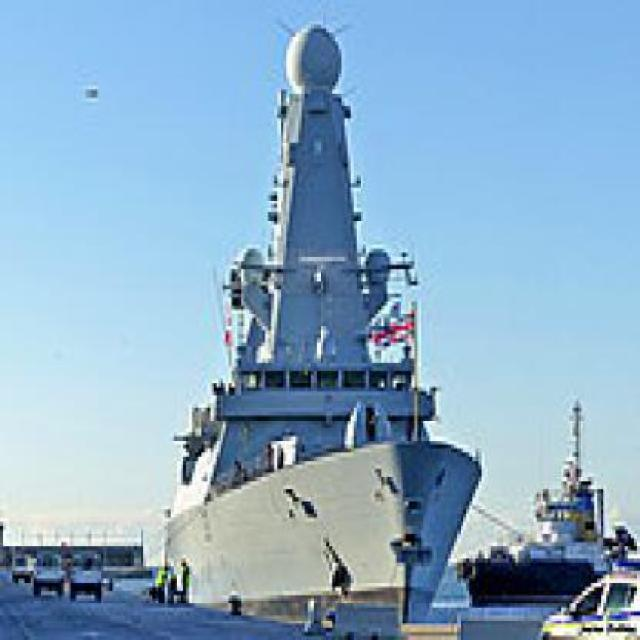warship2: (169, 17, 455, 617)
